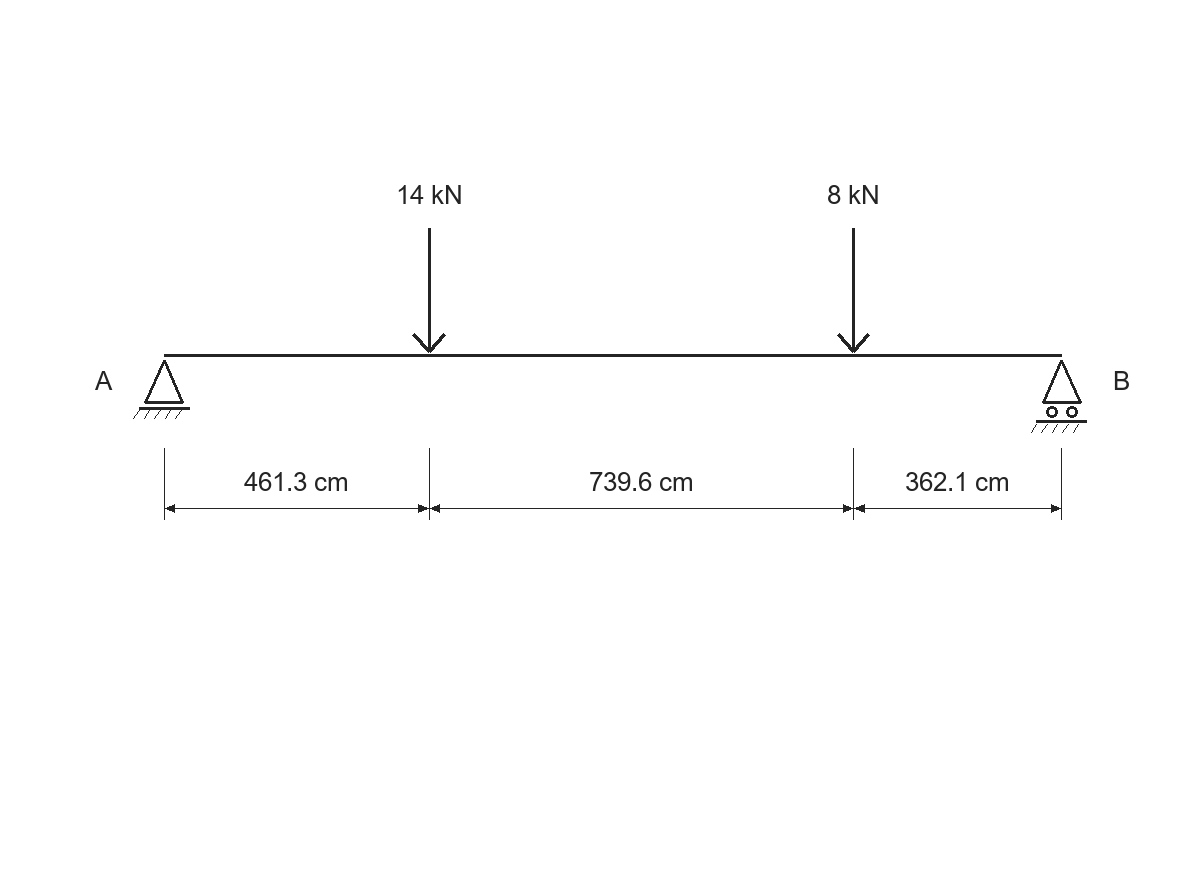pin_support: (133, 360, 190, 419)
point_load: (412, 228, 446, 353), (837, 228, 870, 353)
roller_support: (1031, 360, 1087, 433)
